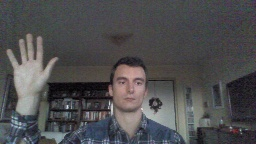Mano_aperta: (5, 32, 60, 88)
